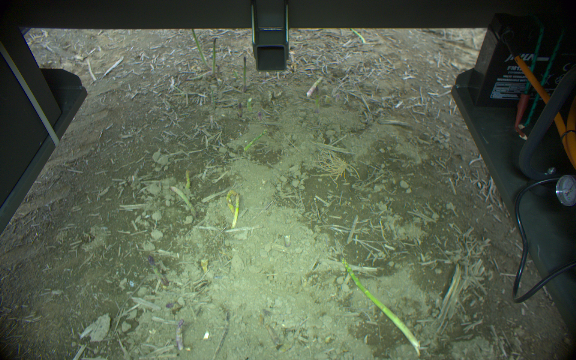aspa: (333, 251, 422, 356), (171, 185, 198, 219), (147, 253, 169, 291), (190, 29, 207, 68), (244, 126, 269, 151), (208, 37, 219, 79), (230, 192, 243, 227), (173, 318, 187, 350), (240, 53, 249, 93), (308, 76, 323, 97), (349, 27, 366, 45), (225, 188, 236, 211), (182, 169, 190, 191)
